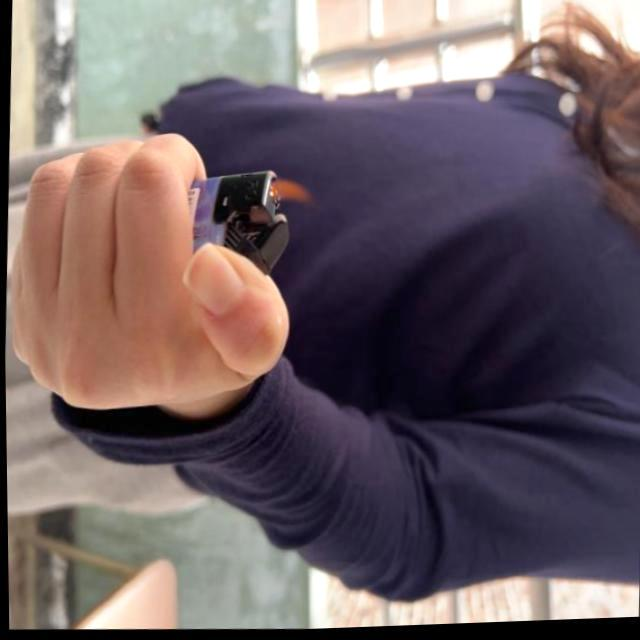fire: (268, 180, 312, 210)
